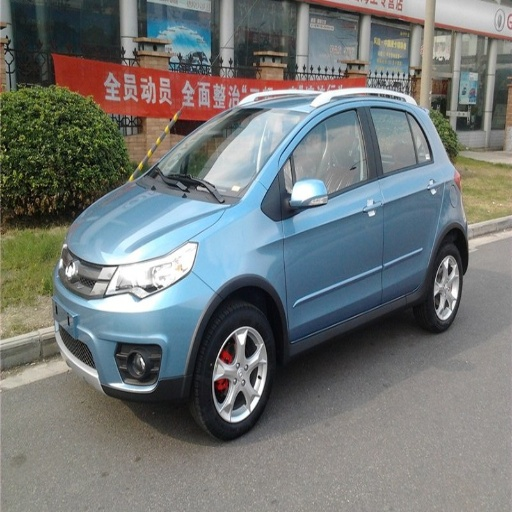front_bumper: (53, 251, 213, 401)
front_glass: (144, 105, 298, 201)
front_left_door: (280, 103, 382, 339)
